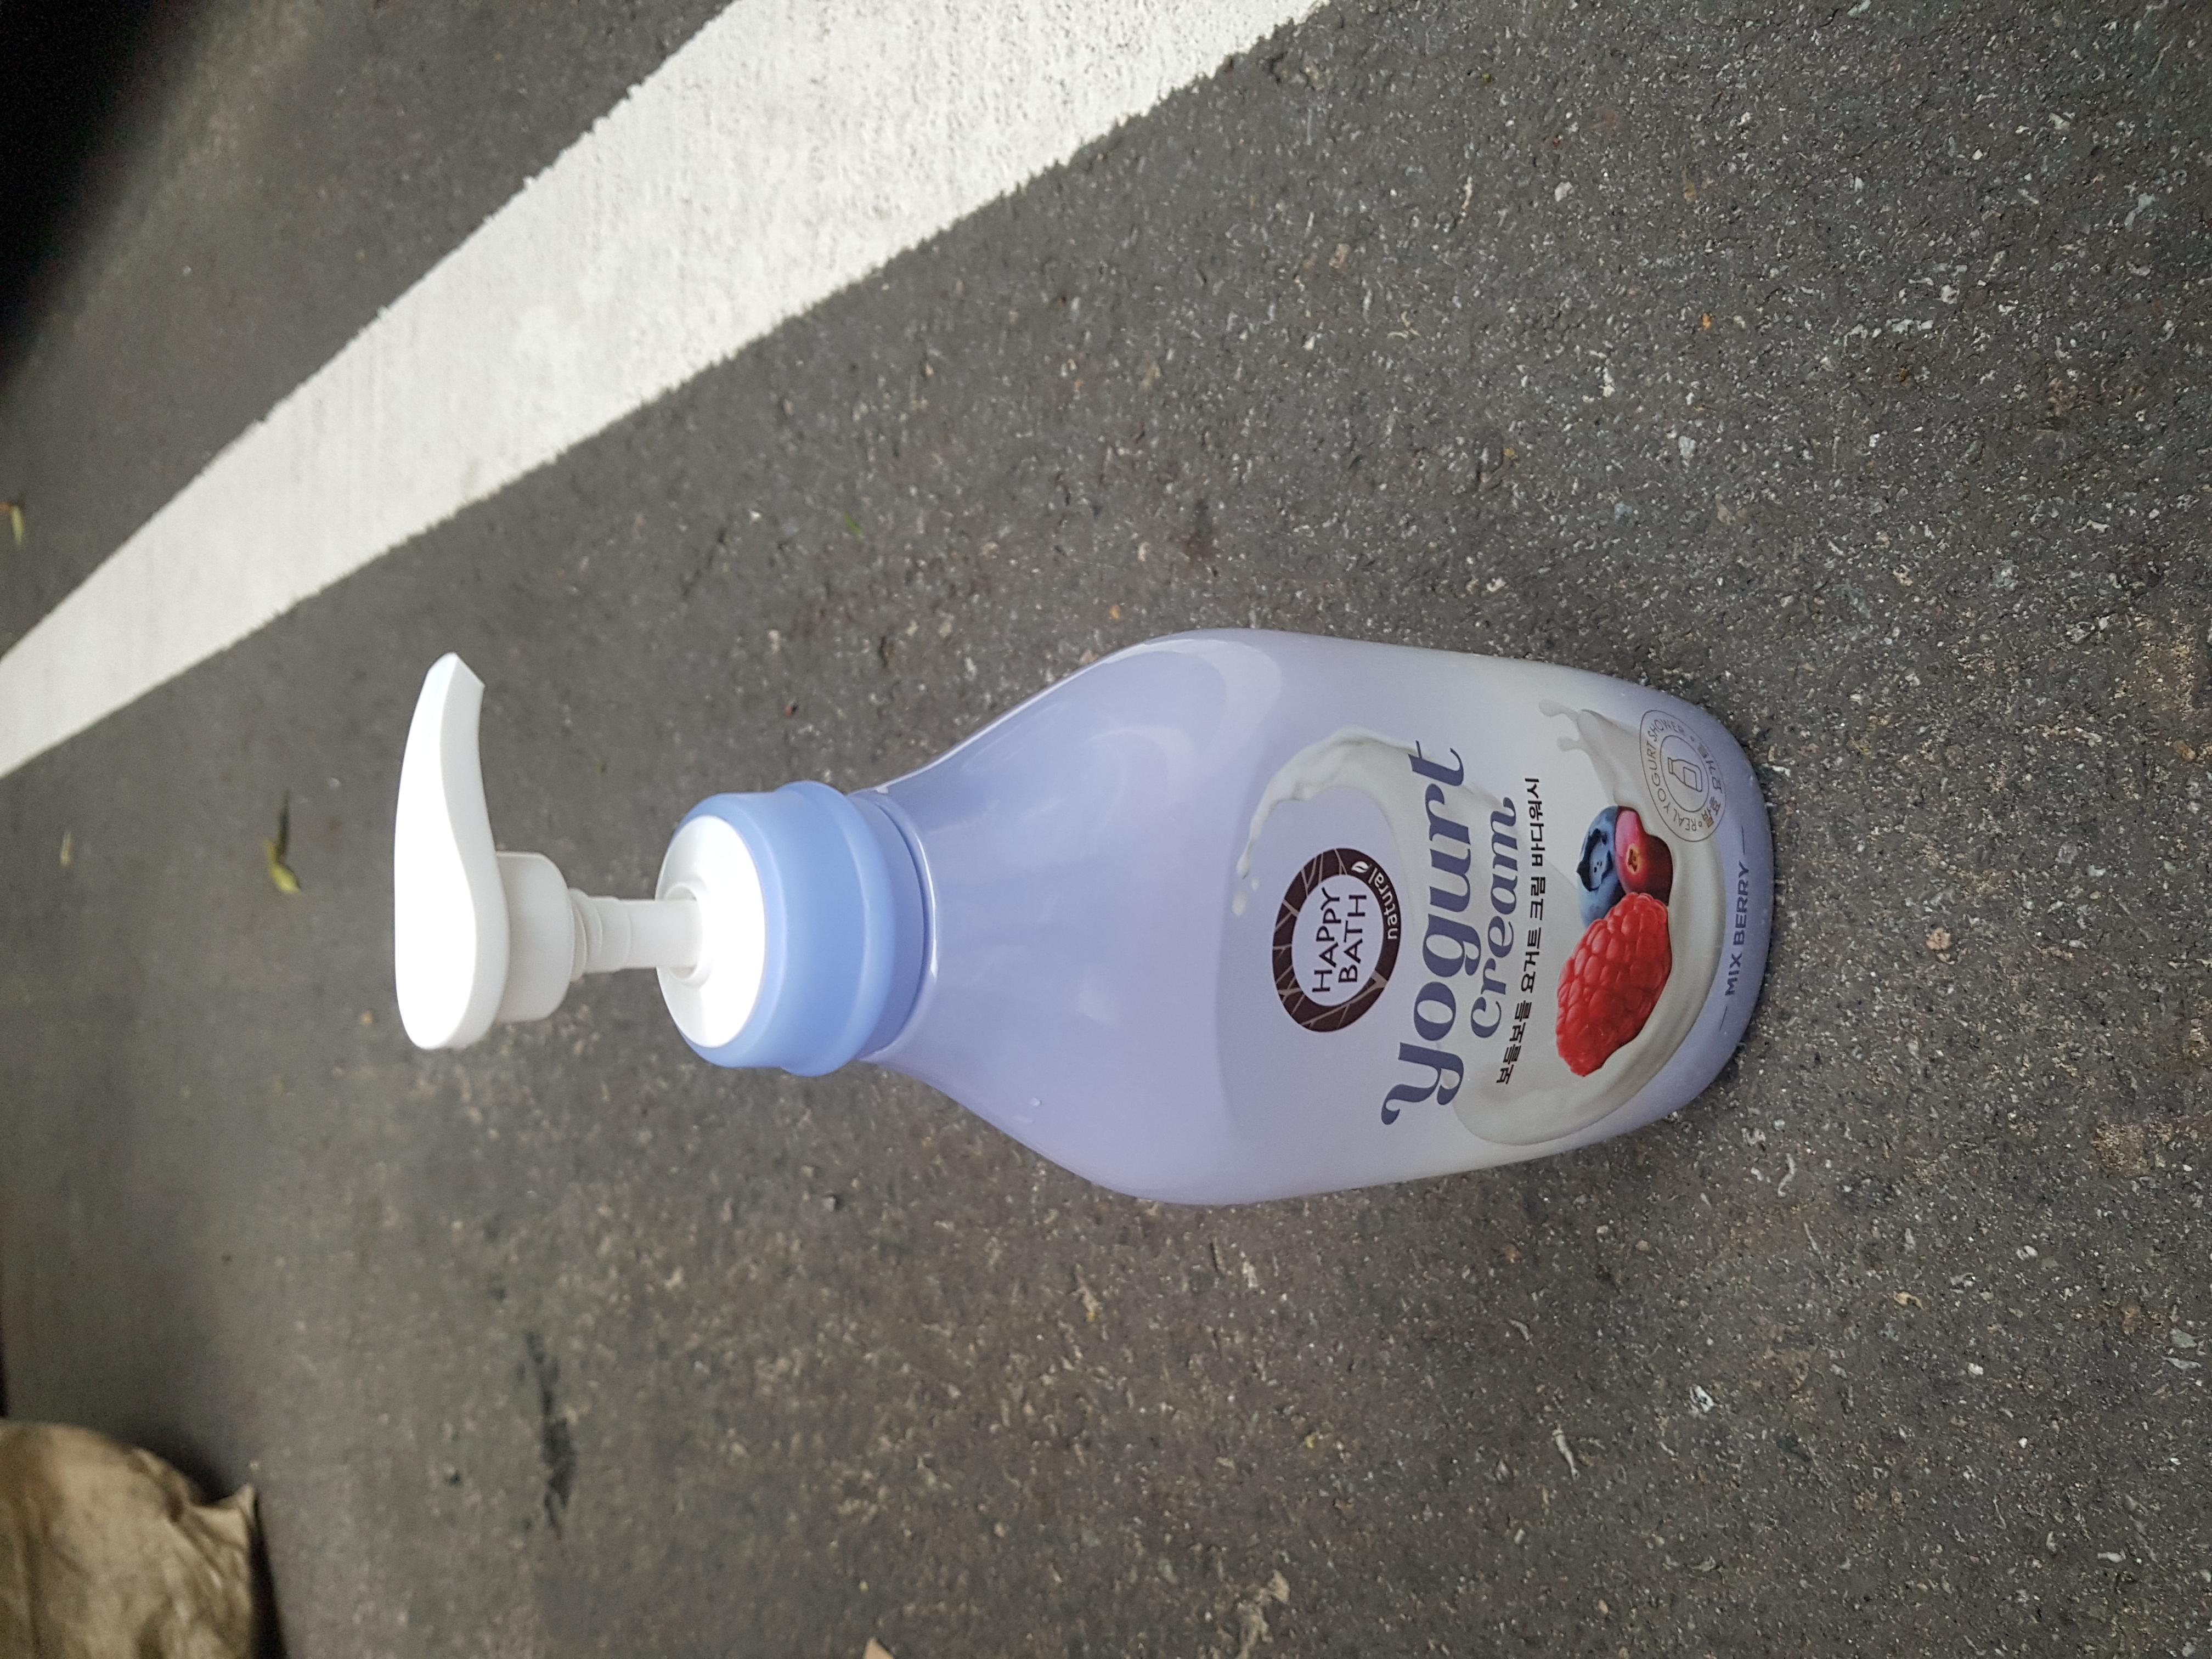bottle: (505, 279, 1446, 1368)
